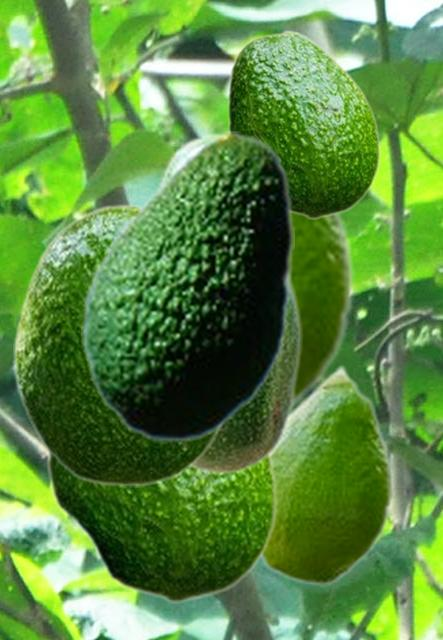avocado: (81, 131, 293, 442), (13, 203, 225, 486), (151, 132, 301, 475), (44, 450, 276, 602), (260, 363, 393, 585), (226, 29, 379, 218), (293, 212, 354, 405)
